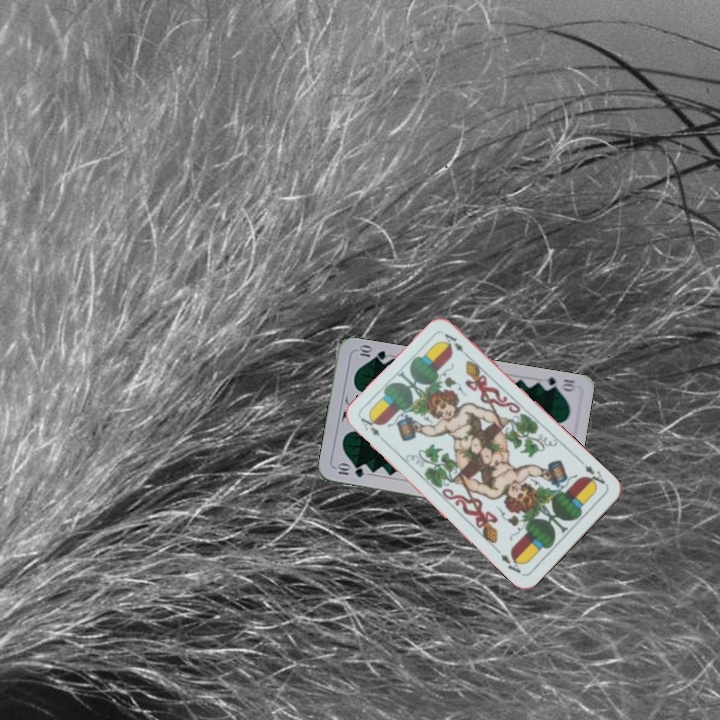EA: (356, 413, 389, 446), (580, 460, 609, 491)
G10: (537, 373, 578, 394), (332, 460, 367, 480)
